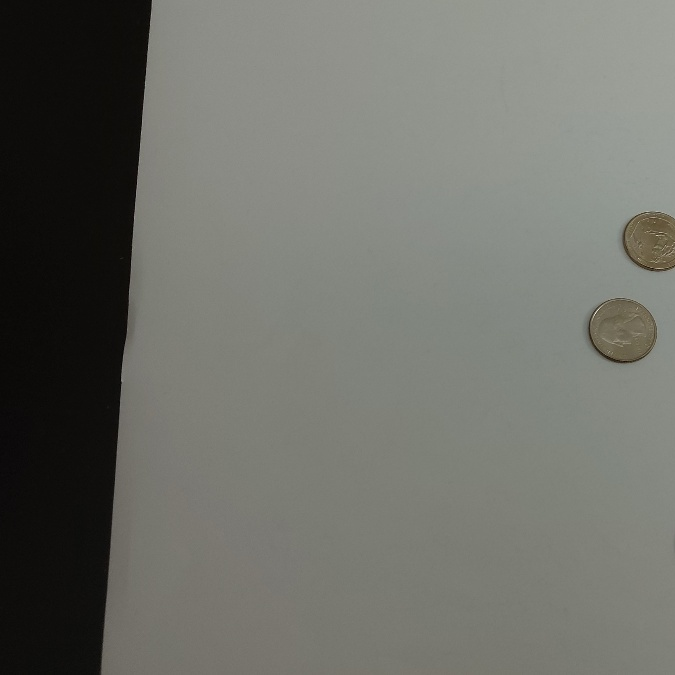coin_quarter: (586, 293, 659, 364)
